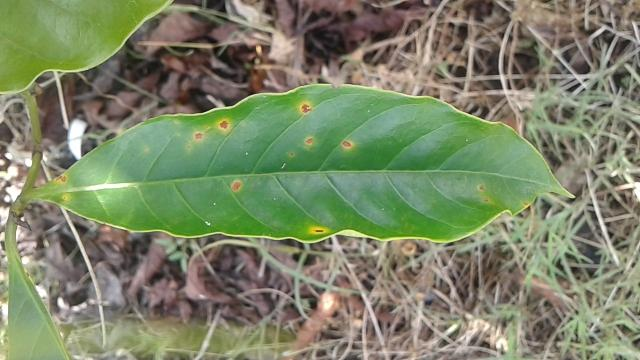rust_level_2: (33, 78, 582, 250)
